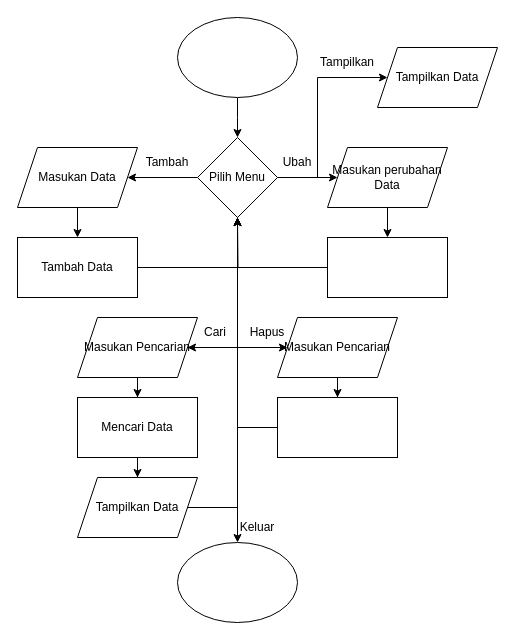
Image size: 515x640. Some labels were removed from this diagram. The shapes that lost their labels are listed below. From the top down, each one's centre as x and y in pixels, then its label:
At point 237,57: "Mulai".
At point 387,267: "Ubah Data".
At point 337,427: "Hapus Data".
At point 237,582: "Selesai".
